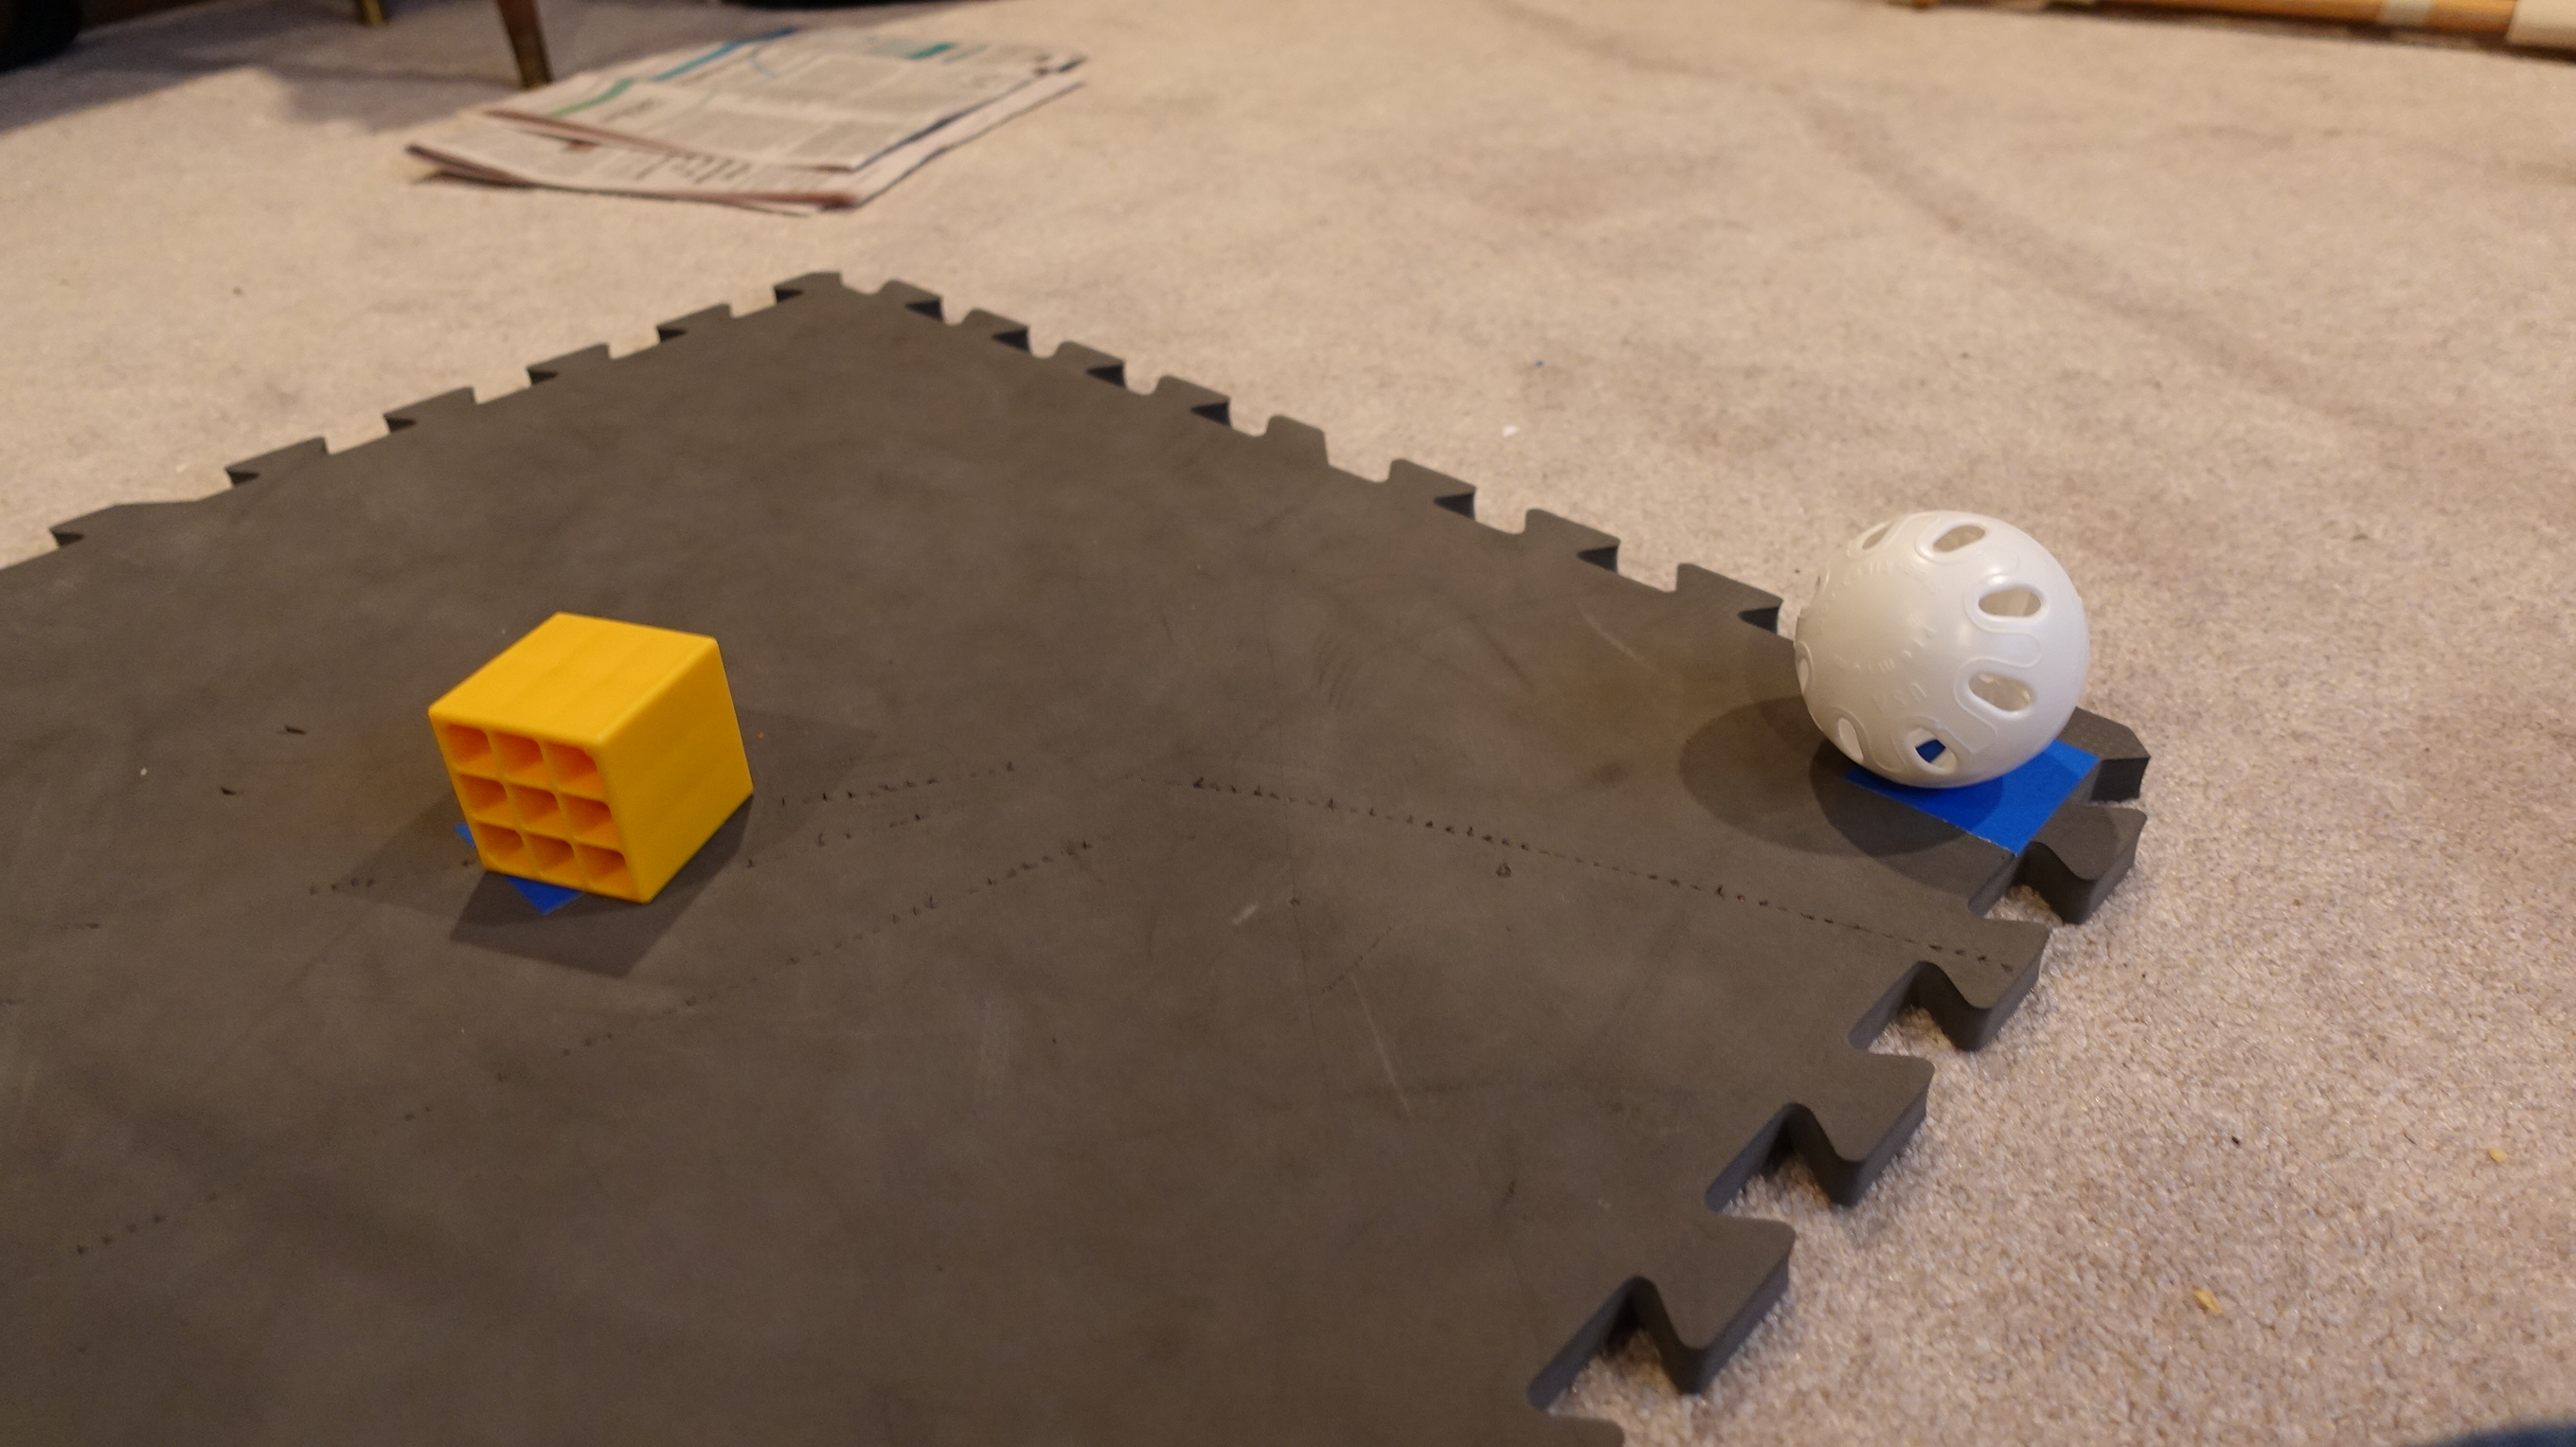gold: (421, 601, 763, 915)
silver: (1789, 506, 2098, 787)
